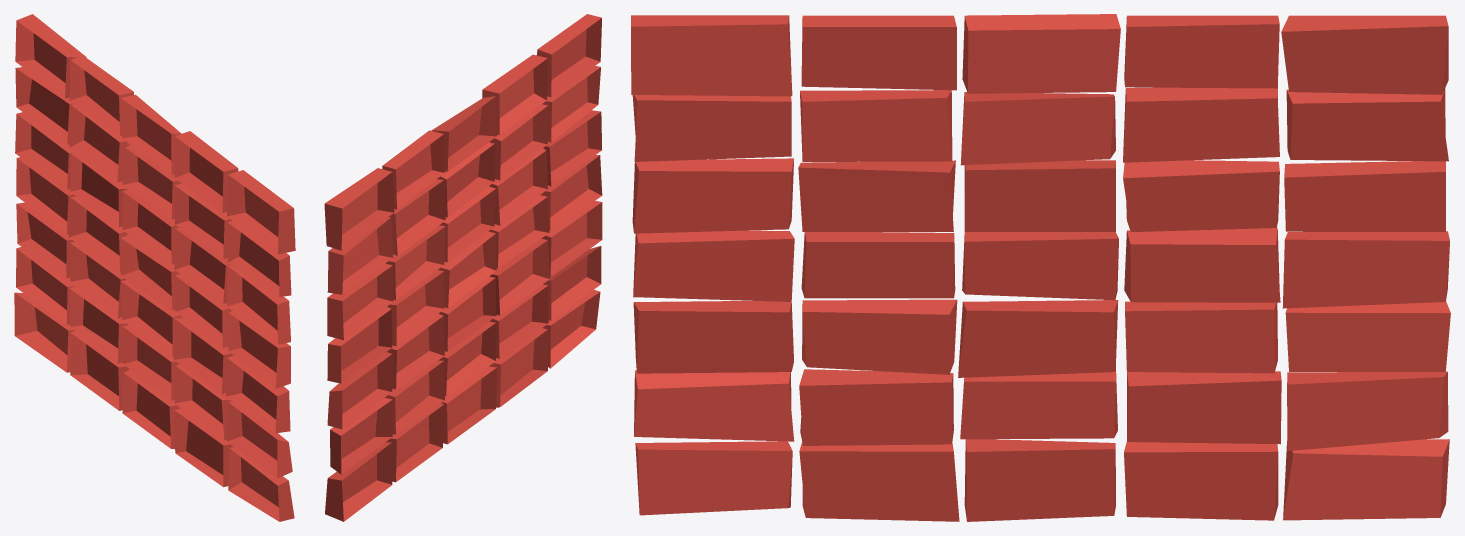
File: Brick Wall 3X3.fbx
3 renders of one model, left to right at view 1: azimuth 30°, elevation 25°; view 2: azimuth 150°, elevation 25°; view 3: azimuth 270°, elevation 25°, orthographic. The views are drawn at different scales.
Parts seen in each view (by area): view 1: Brick Wall 3X3; view 2: Brick Wall 3X3; view 3: Brick Wall 3X3.
Part boxes in pixels (bbox=[...]): Brick Wall 3X3: bbox=[14, 14, 295, 521]; Brick Wall 3X3: bbox=[324, 14, 602, 521]; Brick Wall 3X3: bbox=[631, 14, 1450, 521].
Size of the model in its own units: 14.08 by 204 by 303.
